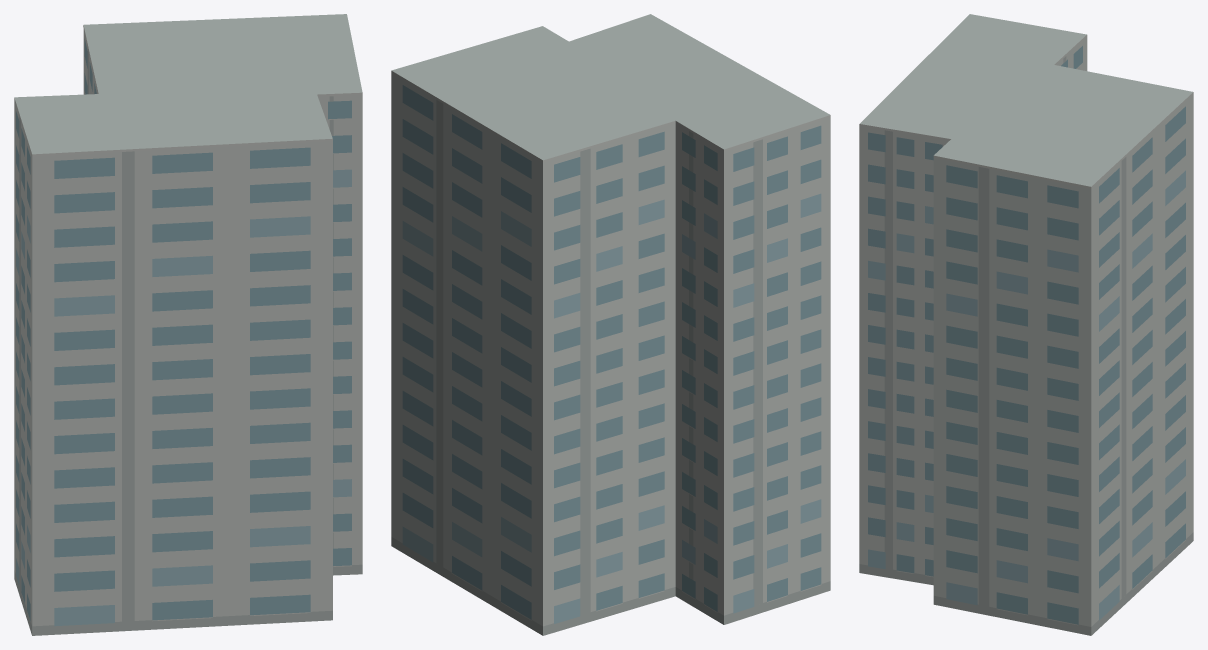
Rendered from survey-upis-32844386.glb.
The picture shows the model from 3 angles, left to right: view 1: azimuth 30°, elevation 25°; view 2: azimuth 150°, elevation 25°; view 3: azimuth 270°, elevation 25°; orthographic projection. The views are drawn at different scales.
Visible parts, largest first — view 1: survey-upis-32844386.tmp; view 2: survey-upis-32844386.tmp; view 3: survey-upis-32844386.tmp.
Part boxes in pixels (left/top/right/bottom): survey-upis-32844386.tmp: left=14, top=14, right=362, bottom=635; survey-upis-32844386.tmp: left=391, top=14, right=830, bottom=635; survey-upis-32844386.tmp: left=859, top=14, right=1193, bottom=635.
Bounding box in the file's own units: 41.66 × 50.45 × 34.03.
